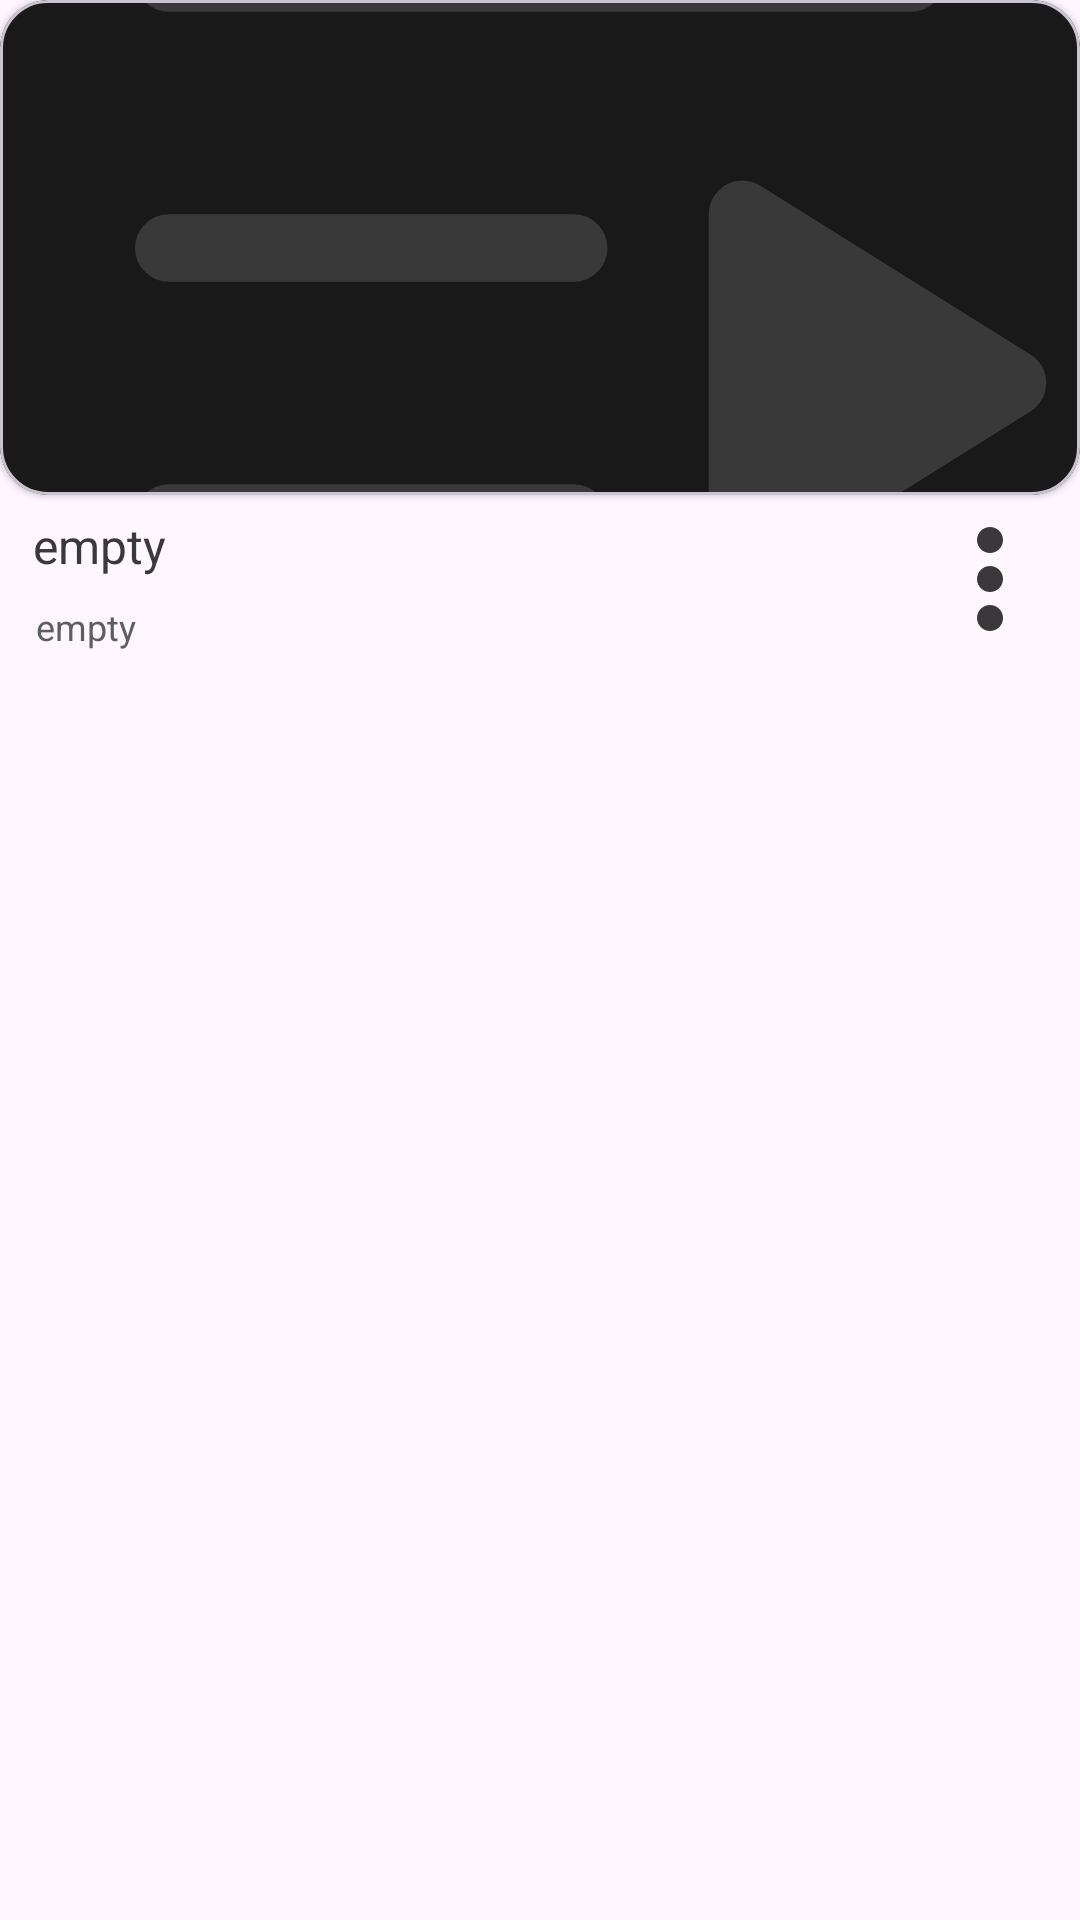

Icons on this 1080x1920 Android screen, each with its box as (x1, y1, x2, y2):
option: (977, 527, 1003, 631)
